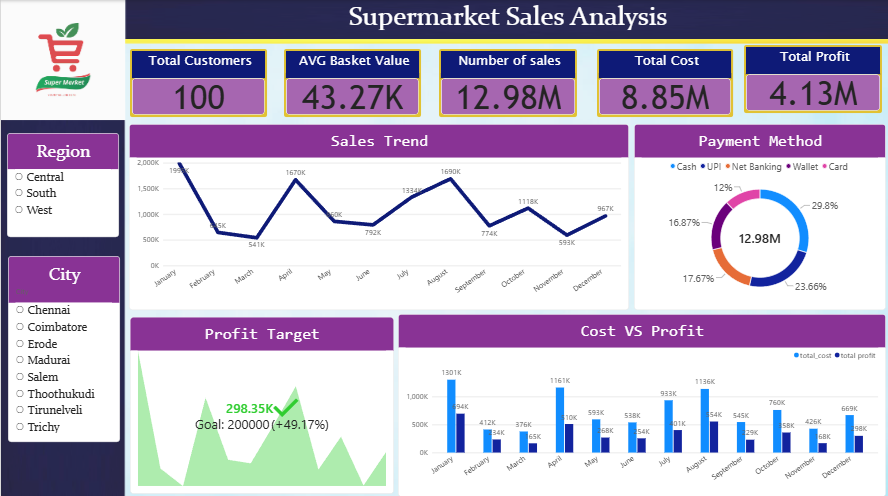

The dashboard page shown, as its layout file describes it:
{"tool":"powerbi","page":{"name":"Management","canvas":[1920,1080],"ordinal":0},"visuals":[{"type":"cardVisual","title":"Number of sales ","fields":{"Data":["Product.totals sales"]},"box":[946.1,108,298.1,146.9],"z":0},{"type":"cardVisual","title":"Total Customers","fields":{"Data":["Sales.total customers"]},"box":[278.6,108,295.9,146.9],"z":1000},{"type":"cardVisual","title":"Total Cost","fields":{"Data":["Sales.total_cost"]},"box":[1287.4,108,293.8,146.9],"z":2000},{"type":"cardVisual","title":"Total Profit","fields":{"Data":["Sales.total profit"]},"box":[1604.9,99.4,298.1,146.9],"z":3000},{"type":"cardVisual","title":"AVG  Basket Value ","fields":{"Data":["Sales.avg basket value"]},"box":[611.3,108,295.9,146.9],"z":4000},{"type":"listSlicer","title":"City","fields":{"Values":["Branch.City"]},"box":[15.1,555.1,241.9,401.8],"z":5000},{"type":"lineChart","title":"Sales Trend","fields":{"Y":["Sum(Sales.Sales)"],"Category":["Sales.Date.Variation.Date Hierarchy.Month"]},"box":[276.5,270,1080,401.8],"z":6000},{"type":"donutChart","title":"Payment Method ","fields":{"Category":["Sales.Payment_Mode"],"Y":["Product.totals sales"]},"box":[1367.3,270,544.3,401.8],"z":7000},{"type":"kpi","title":"Profit Target","fields":{"Indicator":["Sales.total profit"],"Goal":["Sales.sales target"],"TrendLine":["Sales.Date.Variation.Date Hierarchy.Month"]},"box":[278.6,686.9,570.2,382.3],"z":8000},{"type":"clusteredColumnChart","title":"Cost VS Profit ","fields":{"Y":["Sales.total_cost","Sales.total profit"],"Category":["Sales.Date.Variation.Date Hierarchy.Month"]},"box":[857.5,680.4,1054.1,395.3],"z":9000},{"type":"image","title":"Supermarket Sales Analysis ","box":[278.6,0,1633,67],"z":10000},{"type":"listSlicer","fields":{"Values":["Branch.Region"]},"box":[13,289.4,241.9,224.6],"z":10001}]}

Visuals, with their boxes in screenshot pixels (x1, y1, x2, y2), scaled from the page's 1920x1080 canvas onto the 888x496 screenshot:
"Number of sales " cardVisual: l=438, t=50, r=575, b=117
"Total Customers" cardVisual: l=129, t=50, r=266, b=117
"Total Cost" cardVisual: l=595, t=50, r=731, b=117
"Total Profit" cardVisual: l=742, t=46, r=880, b=113
"AVG  Basket Value " cardVisual: l=283, t=50, r=420, b=117
"City" listSlicer: l=7, t=255, r=119, b=439
"Sales Trend" lineChart: l=128, t=124, r=627, b=309
"Payment Method " donutChart: l=632, t=124, r=884, b=309
"Profit Target" kpi: l=129, t=315, r=393, b=491
"Cost VS Profit " clusteredColumnChart: l=397, t=312, r=884, b=494
"Supermarket Sales Analysis " image: l=129, t=0, r=884, b=31
listSlicer - Branch.Region: l=6, t=133, r=118, b=236
